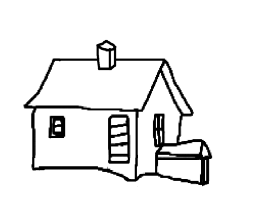chimney: (89, 37, 120, 75)
closed_window: (101, 111, 134, 164), (43, 111, 75, 144), (148, 108, 169, 150)
roof: (16, 52, 171, 113), (150, 138, 224, 161)
wall: (22, 105, 147, 191), (157, 154, 206, 186)
